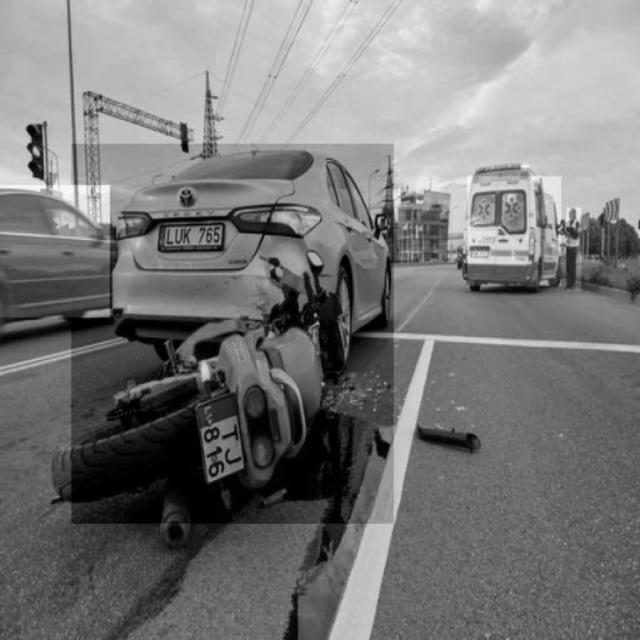accident: (72, 144, 394, 524)
person: (567, 208, 582, 291)
vehicle: (0, 185, 110, 317), (468, 176, 561, 286)
